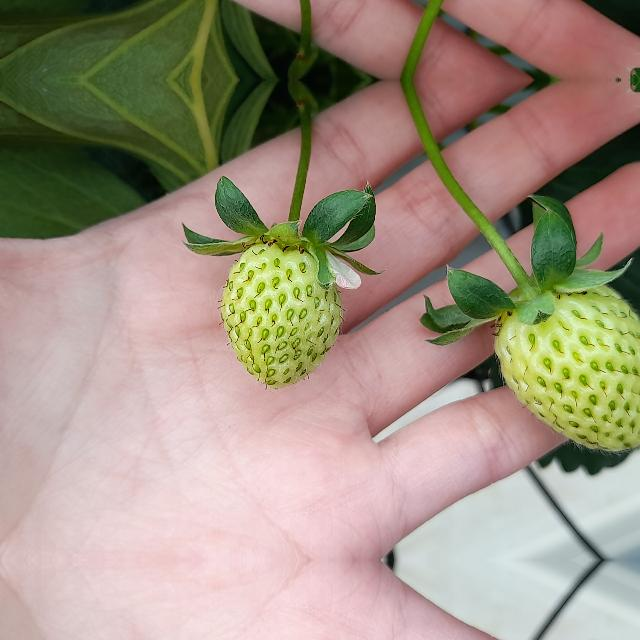Health_25: (505, 281, 639, 447), (220, 241, 344, 389)
